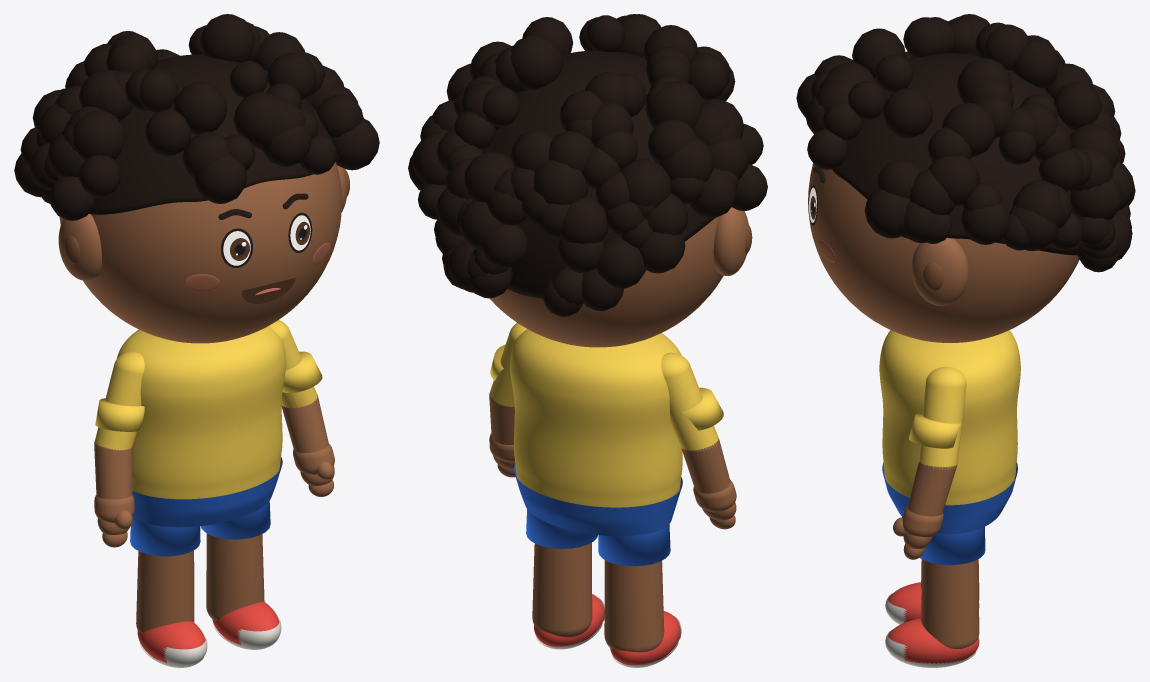
Rendered from kind_a.glb.
The picture shows the model from 3 angles, left to right: view 1: azimuth 30°, elevation 25°; view 2: azimuth 150°, elevation 25°; view 3: azimuth 270°, elevation 25°; orthographic projection. The views are drawn at different scales.
Visible parts, largest first — view 1: kind_a_hoofd, kind_a_romp, kind_a_haar, kind_a_been_L, kind_a_been_R, kind_a_short_heup, kind_a_bovenarm_R, kind_a_krul60, kind_a_krul32, kind_a_krul77, kind_a_short_R, kind_a_oor_R (+40 smaller); view 2: kind_a_romp, kind_a_hoofd, kind_a_haar, kind_a_been_L, kind_a_been_R, kind_a_short_heup, kind_a_bovenarm_R, kind_a_krul60, kind_a_short_R, kind_a_krul28, kind_a_oor_R, kind_a_krul17 (+64 smaller); view 3: kind_a_hoofd, kind_a_romp, kind_a_haar, kind_a_been_L, kind_a_bovenarm_L, kind_a_oor_L, kind_a_short_heup, kind_a_schoen_L, kind_a_krul55, kind_a_short_L, kind_a_onderarm_L, kind_a_krul0 (+46 smaller).
Part boxes in pixels (left/top/right/bottom): kind_a_hoofd: left=59, top=162, right=341, bottom=343; kind_a_romp: left=116, top=326, right=286, bottom=499; kind_a_haar: left=89, top=54, right=339, bottom=214; kind_a_been_L: left=206, top=533, right=264, bottom=620; kind_a_been_R: left=136, top=550, right=194, bottom=632; kind_a_short_heup: left=132, top=457, right=282, bottom=527; kind_a_bovenarm_R: left=94, top=351, right=144, bottom=450; kind_a_krul60: left=200, top=14, right=255, bottom=62; kind_a_krul32: left=73, top=110, right=126, bottom=160; kind_a_krul77: left=173, top=81, right=227, bottom=134; kind_a_short_R: left=130, top=517, right=200, bottom=556; kind_a_oor_R: left=58, top=214, right=101, bottom=280; kind_a_romp: left=510, top=329, right=682, bottom=507; kind_a_hoofd: left=489, top=216, right=723, bottom=347; kind_a_haar: left=482, top=50, right=715, bottom=298; kind_a_been_L: left=532, top=542, right=592, bottom=637; kind_a_been_R: left=604, top=560, right=664, bottom=652; kind_a_short_heup: left=514, top=464, right=682, bottom=536; kind_a_bovenarm_R: left=661, top=352, right=718, bottom=452; kind_a_krul60: left=511, top=35, right=563, bottom=89; kind_a_short_R: left=598, top=524, right=670, bottom=566; kind_a_krul28: left=645, top=81, right=702, bottom=128; kind_a_oor_R: left=713, top=207, right=748, bottom=275; kind_a_krul17: left=534, top=159, right=588, bottom=204; kind_a_hoofd: left=808, top=163, right=1079, bottom=342; kind_a_romp: left=879, top=330, right=1020, bottom=505; kind_a_haar: left=832, top=53, right=1079, bottom=255; kind_a_been_L: left=921, top=559, right=979, bottom=648; kind_a_bovenarm_L: left=919, top=366, right=966, bottom=470; kind_a_oor_L: left=911, top=237, right=968, bottom=305; kind_a_short_heup: left=882, top=462, right=1017, bottom=534; kind_a_schoen_L: left=888, top=618, right=979, bottom=663; kind_a_krul55: left=883, top=87, right=933, bottom=138; kind_a_short_L: left=919, top=527, right=985, bottom=565; kind_a_onderarm_L: left=907, top=462, right=956, bottom=516; kind_a_krul0: left=942, top=102, right=995, bottom=156.
Bounding box in the file's own units: 0.6621 × 1.25 × 0.6301.
